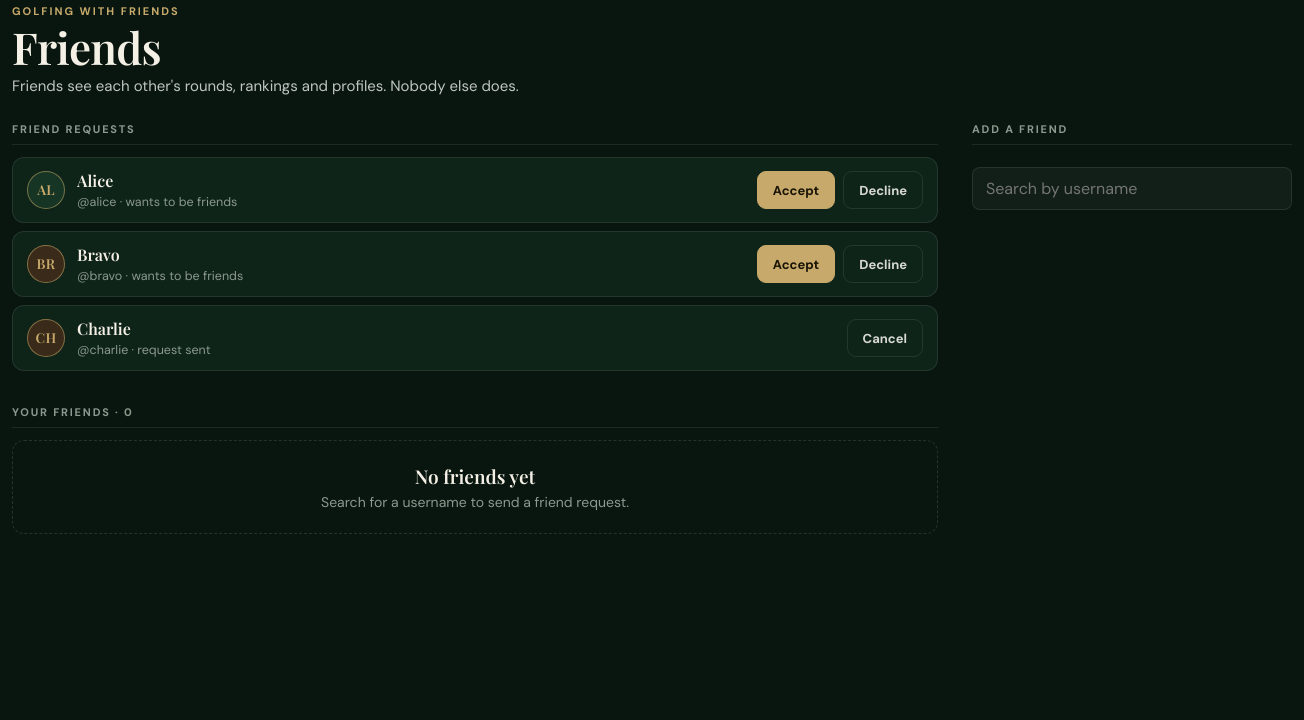
Test: friend action serialization › keeps other member actions disabled until a request settles (failure=false)
Type "delta" into the search field labelled "Add a friend".
click(1132, 189); type("delta")  # box [972,167,1292,210]
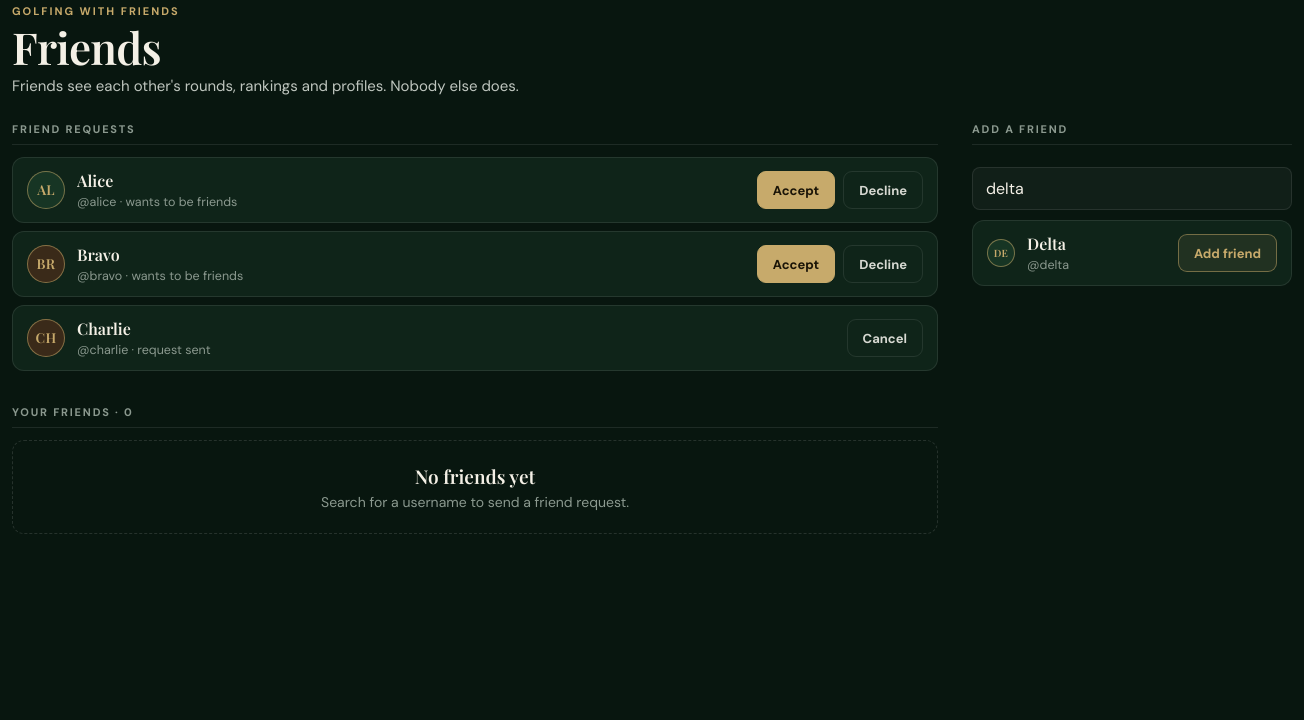
Check: the button "Add friend" is shown, box [1178,234,1277,272]
Click the 1st button "Accept".
click(796, 190)  # box [757,171,835,209]
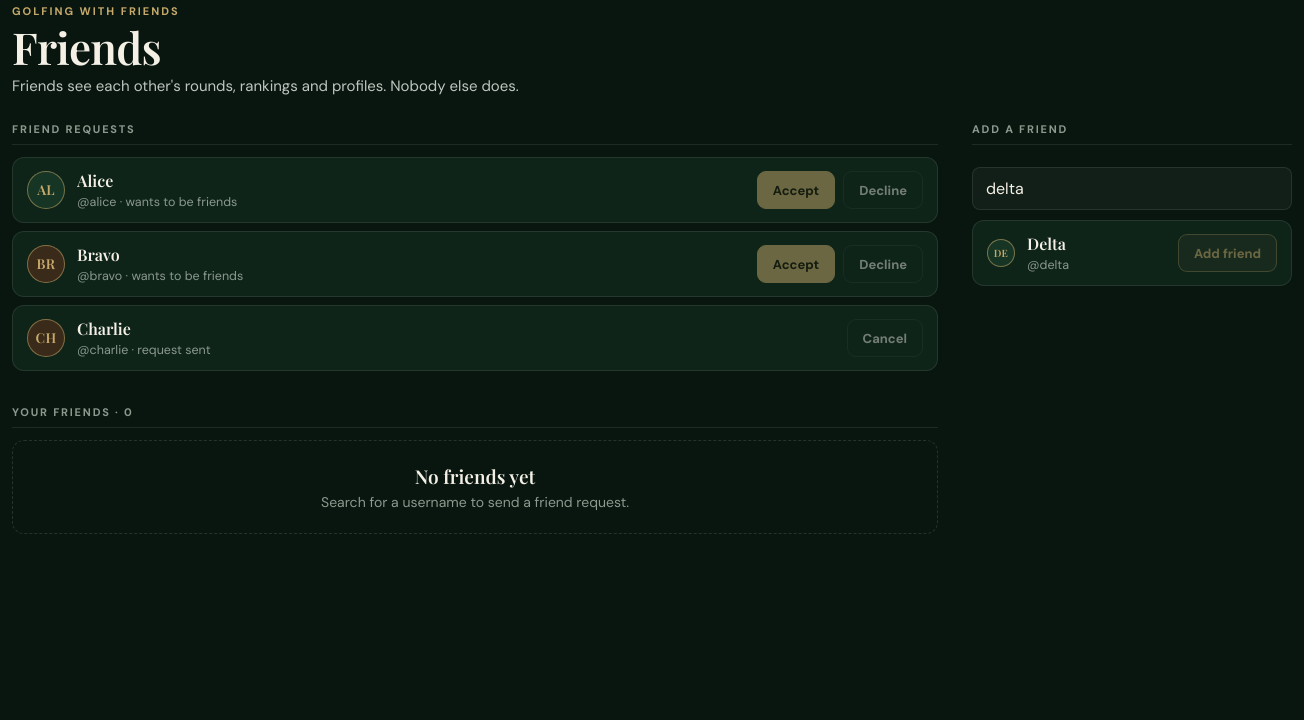
Check: the 2nd button "Accept" is disabled
Check: the 2nd button "Decline" is disabled, box [843,245,923,283]
Check: the button "Cancel" is disabled, box [847,319,923,357]
Click the 2nd button "Accept".
click(796, 264)  # box [757,245,835,283]
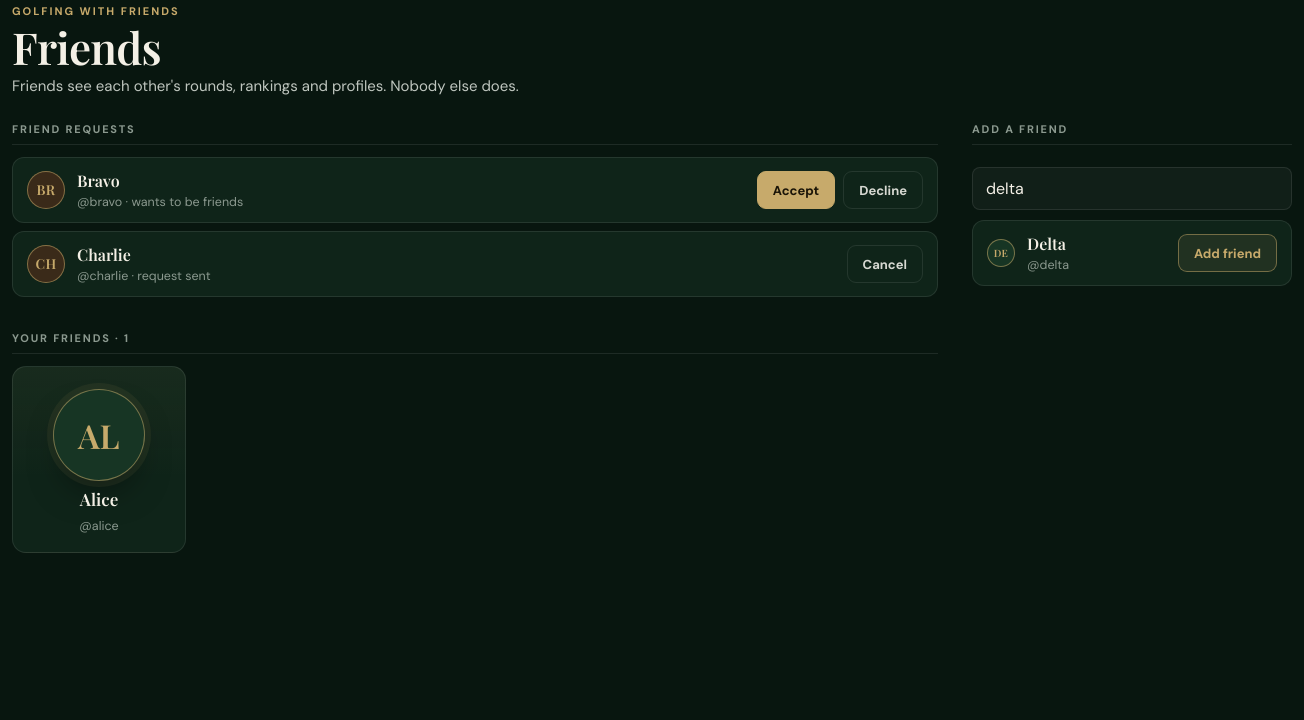
Check: the link "AL Alice @alice" is shown, box [12,366,186,553]
Check: the button "Accept" is enabled, box [757,171,835,209]
